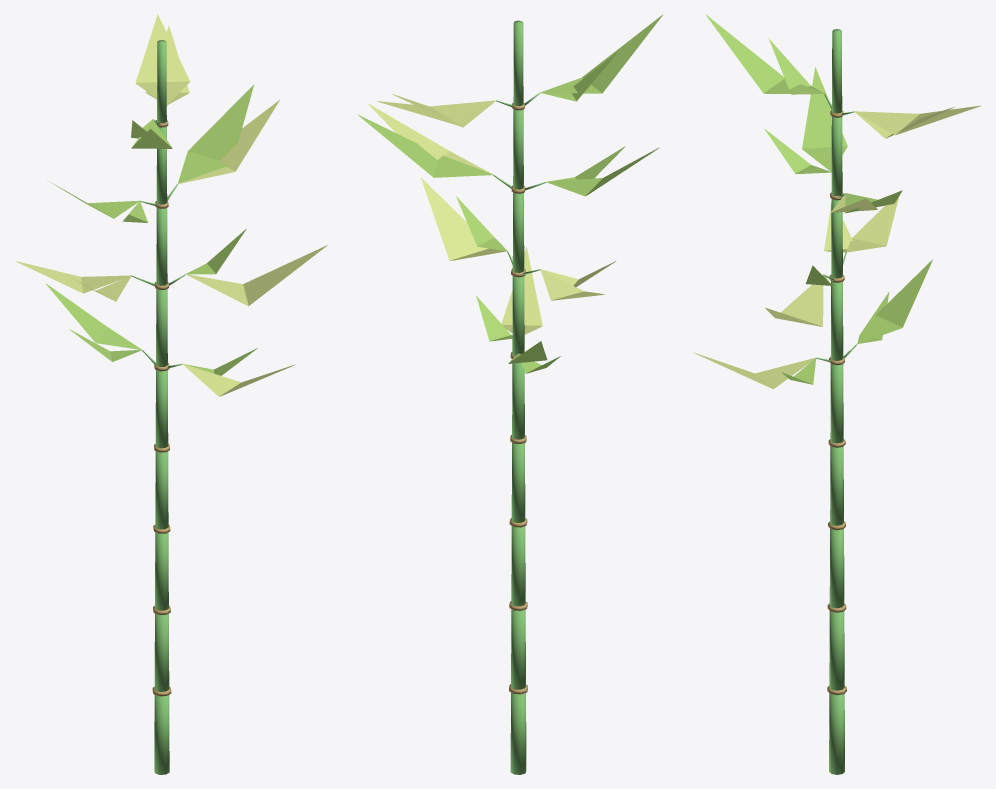
File: bamboo_culm_slim.glb
3 views of the same model, side by side, from view 1: azimuth 30°, elevation 25°; view 2: azimuth 150°, elevation 25°; view 3: azimuth 270°, elevation 25° (orthographic). The views are drawn at different scales.
Parts seen in each view (by area): view 1: bamboo_culm_slim; view 2: bamboo_culm_slim; view 3: bamboo_culm_slim.
Boxes of the visible parts, x1,y1,x2,y2 form: bamboo_culm_slim: (15, 14, 327, 774); bamboo_culm_slim: (358, 14, 662, 774); bamboo_culm_slim: (693, 14, 980, 774).
Size of the model in its own units: 2.28 by 6.1 by 2.16.
